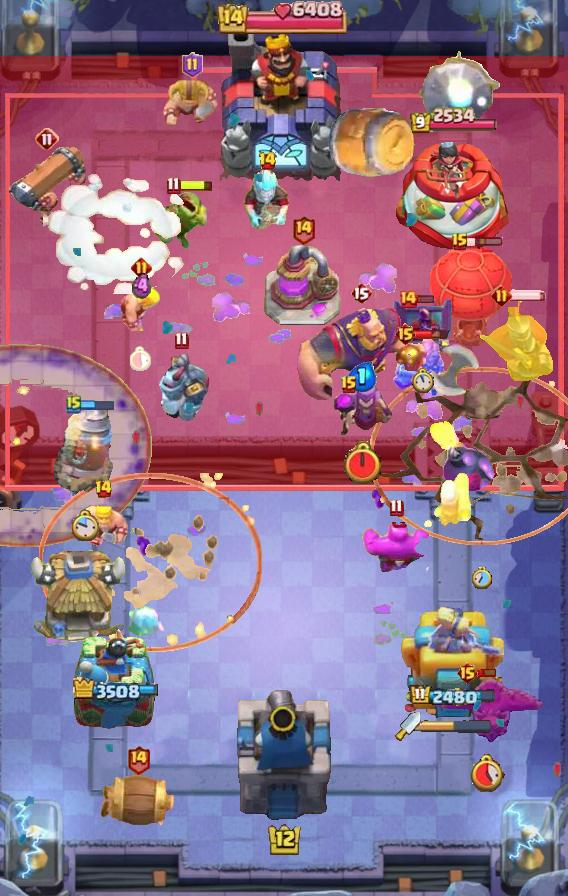archer: (77, 498, 129, 550), (119, 277, 163, 332)
baby-dragon: (424, 419, 496, 493)
bar: (399, 607, 507, 731)
bat: (127, 605, 165, 639)
battle-healer: (6, 142, 88, 226)
cannon-cart: (430, 244, 514, 346)
clock: (217, 0, 351, 34)
dirt: (325, 106, 417, 180)
electro-spirit: (348, 362, 376, 392), (132, 271, 152, 300)
elixir: (342, 441, 383, 486), (468, 752, 505, 791), (69, 509, 98, 543), (412, 368, 434, 394), (130, 346, 152, 371), (472, 567, 492, 589)
elixir-golem-small: (151, 352, 211, 422)
emote: (178, 179, 214, 192), (509, 289, 547, 301), (80, 398, 115, 411), (468, 236, 505, 248), (414, 328, 449, 340), (477, 666, 497, 678), (416, 294, 436, 304)
flying-machine: (152, 191, 212, 249)
goblin-giant: (161, 78, 223, 130)
guard: (39, 472, 262, 651), (370, 367, 568, 546)
ice-spirit-evolution-symbol: (391, 296, 455, 350)
king-tower: (219, 21, 349, 181), (232, 686, 336, 826)
king-tower-bar: (421, 719, 493, 733)
lightning: (295, 307, 430, 407)
magic-archer: (54, 401, 114, 493)
mortar: (242, 164, 292, 232)
mother-witch: (429, 676, 543, 744)
pekka: (264, 245, 342, 327)
prince: (28, 551, 130, 647)
queen-tower: (390, 137, 516, 255), (72, 627, 156, 731)
rascal-girl: (330, 381, 394, 439)
rocket: (0, 344, 152, 548)
royal-giant: (428, 343, 496, 397)
selected: (410, 107, 499, 135), (70, 677, 157, 702), (409, 684, 497, 708)
tesla-evolution: (391, 336, 451, 400)
text: (291, 214, 316, 245), (126, 744, 151, 775), (35, 127, 59, 151), (395, 322, 418, 346), (457, 661, 480, 685), (181, 52, 202, 78), (350, 281, 372, 305), (131, 257, 153, 279), (492, 285, 513, 307), (258, 151, 278, 171), (398, 289, 418, 309), (95, 479, 114, 499), (451, 232, 469, 252), (340, 375, 358, 395), (66, 394, 82, 414), (175, 330, 190, 349), (167, 176, 181, 195), (389, 498, 403, 517)
the-log: (98, 772, 178, 832)
tombstone: (431, 470, 473, 528)
tornado: (362, 522, 430, 574)
wall-breaker: (43, 172, 195, 294)
wall-breaker-evolution: (477, 293, 555, 381)
x-bow: (418, 50, 501, 130)
